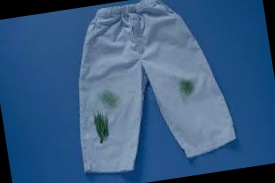earth: (92, 114, 111, 141), (103, 90, 119, 108), (180, 80, 193, 96)
